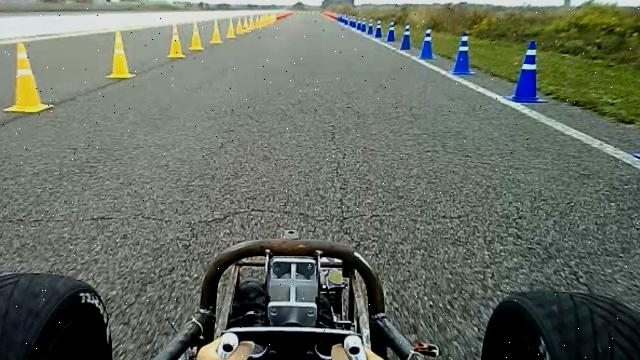blue cone: (507, 40, 548, 102), (452, 31, 476, 75), (418, 26, 436, 60), (400, 23, 412, 50), (387, 20, 396, 41), (375, 19, 383, 38), (366, 18, 374, 36)
yellow cone: (3, 41, 54, 113), (106, 30, 136, 79), (167, 23, 186, 58), (189, 21, 204, 51), (210, 18, 223, 44), (226, 18, 236, 38), (236, 17, 244, 34), (243, 16, 251, 33), (248, 16, 255, 31)
